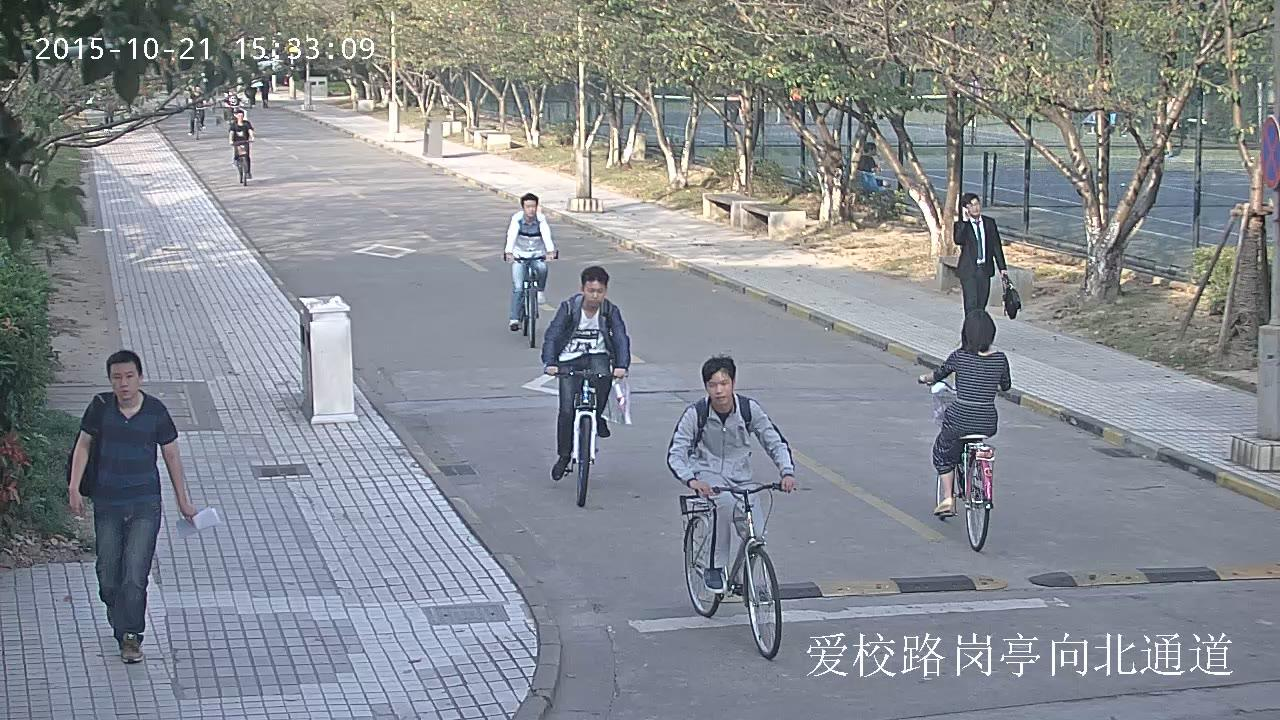person: (70, 349, 220, 663), (666, 356, 797, 658), (667, 357, 796, 593), (919, 309, 1013, 551), (540, 265, 631, 508), (541, 265, 631, 480), (919, 309, 1012, 513), (953, 191, 1022, 319), (503, 193, 558, 351), (505, 193, 554, 332), (228, 109, 255, 185), (228, 110, 255, 177), (857, 141, 884, 183), (185, 87, 206, 140), (186, 87, 206, 135)
